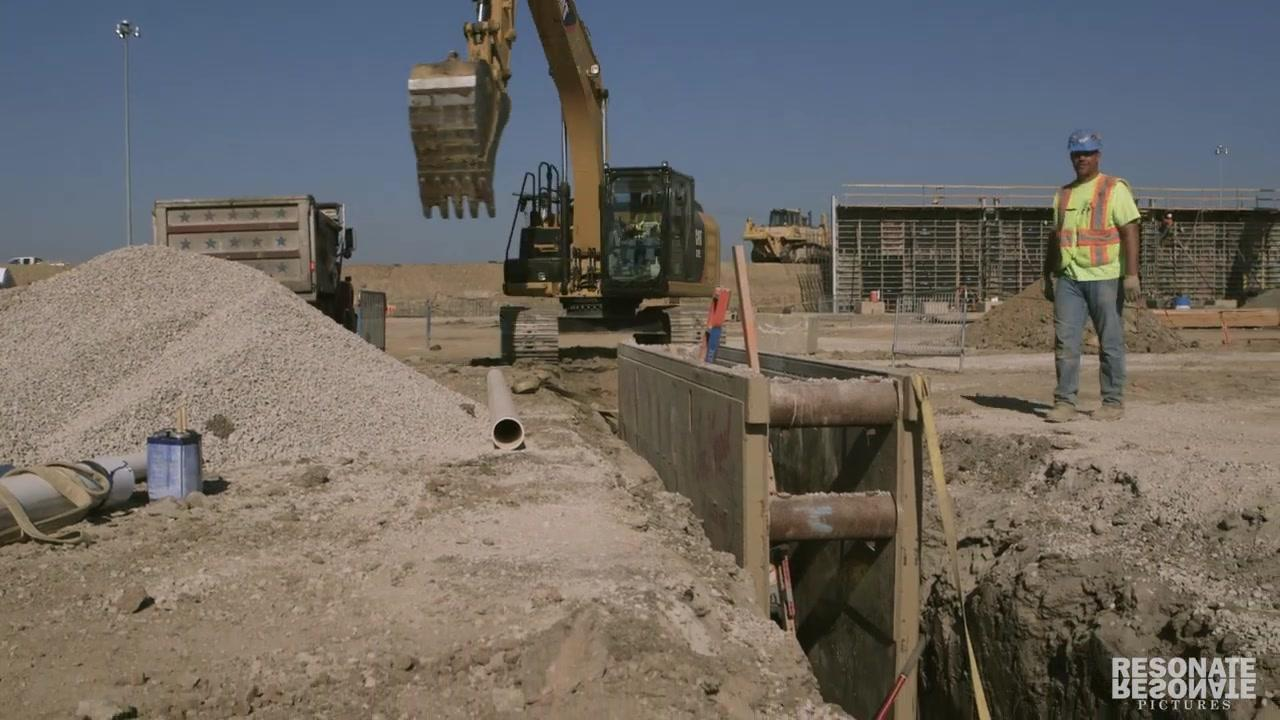vest: (1050, 174, 1132, 269)
